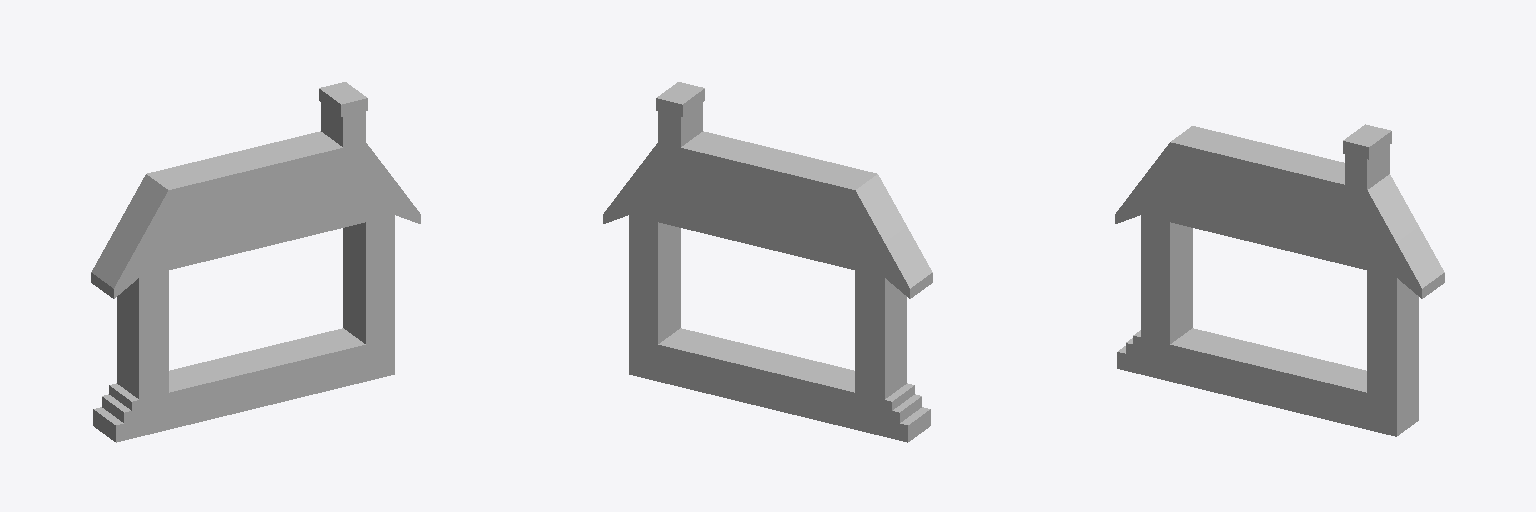
Rendered from roughHouse.obj.
The picture shows the model from 3 angles: view 1: azimuth 30°, elevation 25°; view 2: azimuth 150°, elevation 25°; view 3: azimuth 330°, elevation 25°; orthographic projection.
Visible parts, largest first — view 1: Cube_Cube.005; view 2: Cube_Cube.005; view 3: Cube_Cube.005.
Part boxes in pixels (x1,y1,x2,y2): Cube_Cube.005: (91, 82, 420, 442); Cube_Cube.005: (603, 82, 932, 442); Cube_Cube.005: (1115, 124, 1444, 436).
Bounding box in the file's own units: 7.88 × 6.95 × 1.